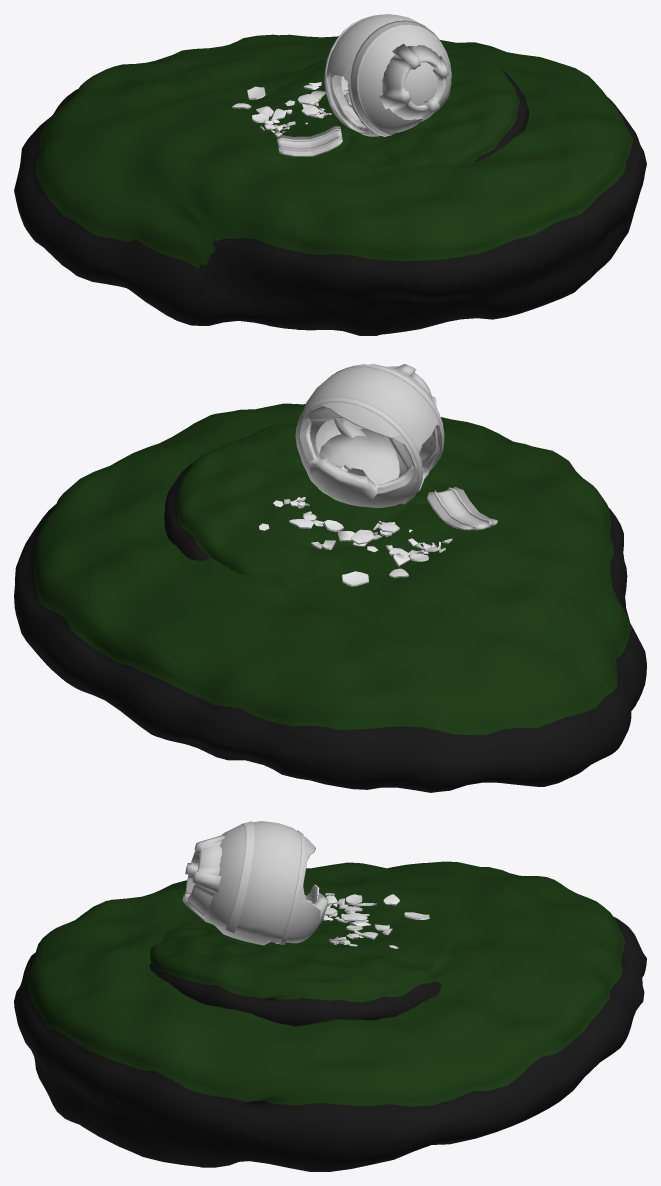
The model's file is pod.fbx.
3 views of the same model, one above another, from view 1: azimuth 30°, elevation 25°; view 2: azimuth 150°, elevation 25°; view 3: azimuth 270°, elevation 25° (orthographic). The views are drawn at different scales.
Parts seen in each view (by area): view 1: Ground2, Ground1, Hull, Booster, Rings, Glass, Door; view 2: Ground2, Ground1, Hull, Rings, Glass, Floor, Door; view 3: Ground2, Ground1, Hull, Booster, Glass, Rings.
Part boxes in pixels (<box>): Ground2: <box>14,34,646,335</box>; Ground1: <box>258,53,529,172</box>; Hull: <box>326,14,450,136</box>; Booster: <box>379,43,448,121</box>; Rings: <box>324,15,451,136</box>; Glass: <box>232,76,363,136</box>; Door: <box>277,126,342,156</box>; Ground2: <box>14,403,646,792</box>; Ground1: <box>164,424,468,588</box>; Hull: <box>297,364,442,507</box>; Rings: <box>295,364,444,504</box>; Glass: <box>259,466,452,586</box>; Floor: <box>319,428,399,484</box>; Door: <box>427,487,497,530</box>; Ground2: <box>14,861,646,1171</box>; Ground1: <box>149,914,455,1026</box>; Hull: <box>203,821,328,943</box>; Booster: <box>182,835,224,922</box>; Glass: <box>305,884,429,948</box>; Rings: <box>223,821,305,944</box>.
Size of the model in its own units: 1024 by 471 by 1007.
